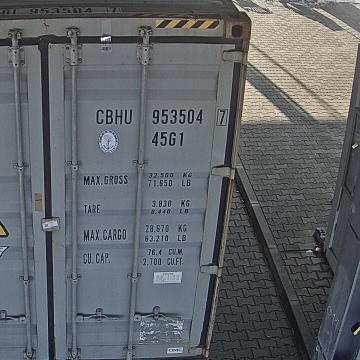serial_id: (96, 109, 227, 124)
